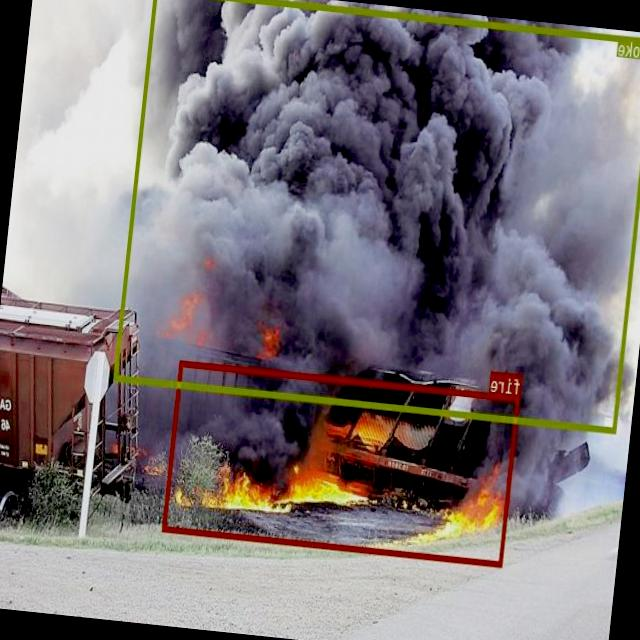fire: (162, 358, 520, 566)
smoke: (113, 0, 640, 433)
